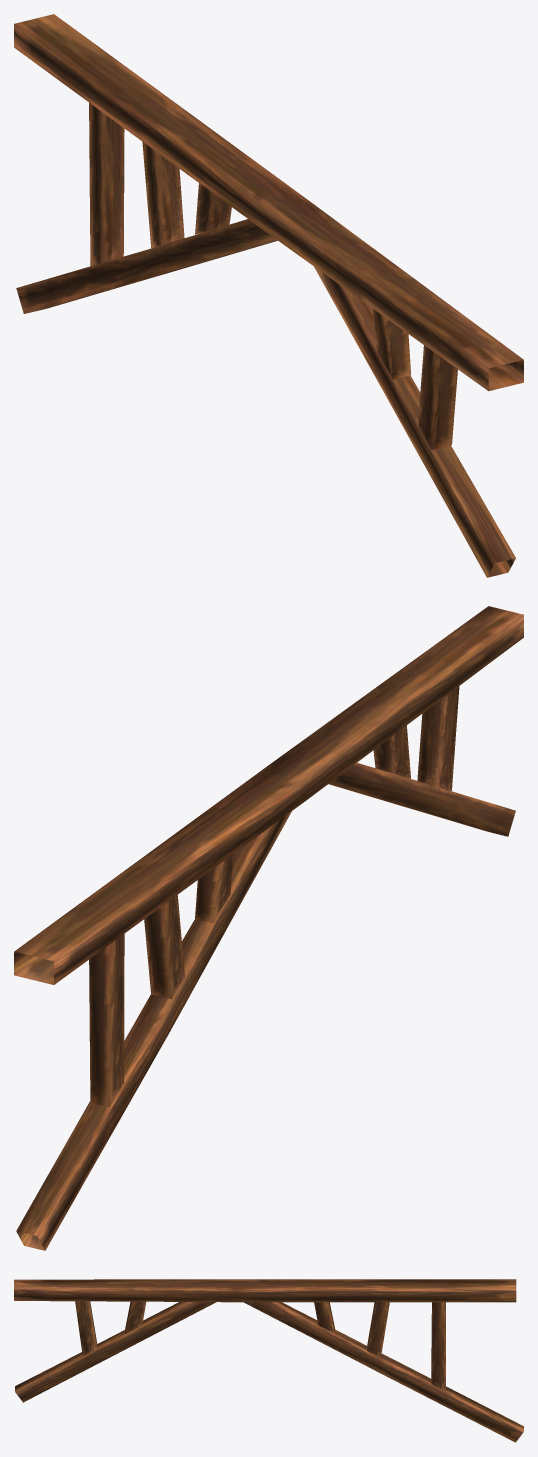
The model's file is INST_SWORDLIGHT_TRACKBRACKE.fbx.
The picture shows the model from 3 angles, top to bottom: view 1: azimuth 30°, elevation 25°; view 2: azimuth 150°, elevation 25°; view 3: azimuth 270°, elevation 25°; orthographic projection. The views are drawn at different scales.
Visible parts, largest first — view 1: INST_SWORDLIGHT_TRACKBRACKE; view 2: INST_SWORDLIGHT_TRACKBRACKE; view 3: INST_SWORDLIGHT_TRACKBRACKE.
Part boxes in pixels (x1=…): INST_SWORDLIGHT_TRACKBRACKE: x1=14, y1=14, x2=523, y2=577; INST_SWORDLIGHT_TRACKBRACKE: x1=14, y1=606, x2=523, y2=1250; INST_SWORDLIGHT_TRACKBRACKE: x1=14, y1=1279, x2=523, y2=1442.
Bounding box in the file's own units: 8604 × 60008 × 178093.
1 material, 1 textured.
